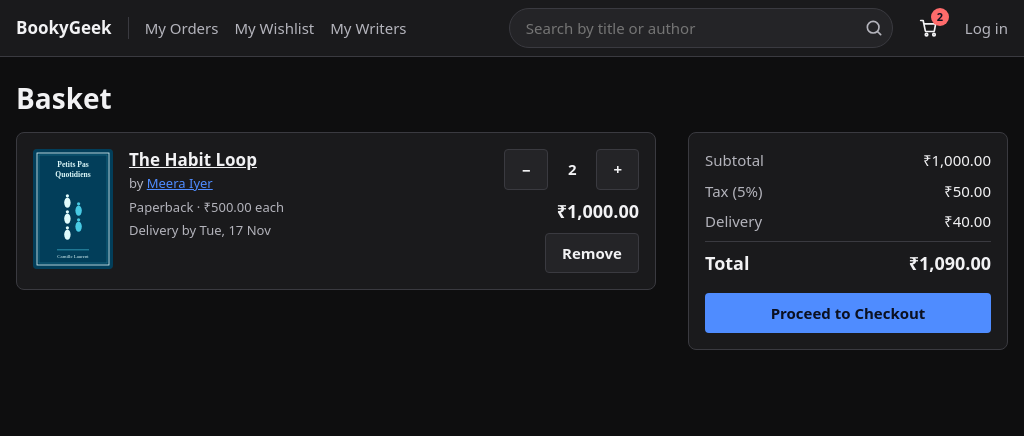
Scenario: BasketPage › shows the reason when the server rejects a change and keeps the basket on screen
The image size is (1024, 436).
Click the button named "Increase quantity of The Habit Loop" at (618, 169), box [596,149,639,190]
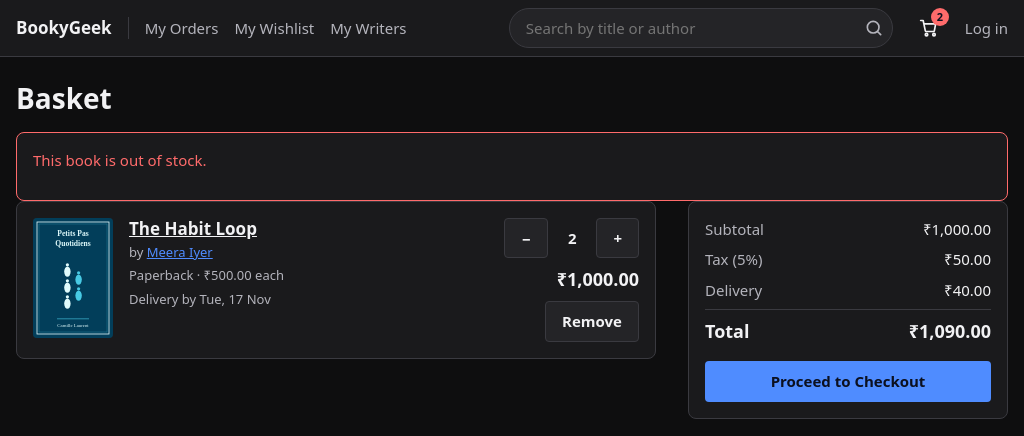
Expected: the heading "The Habit Loop" is shown, [129,216,257,240]
Expected: the message reads "This book is out of stock.", [33,150,206,170]
